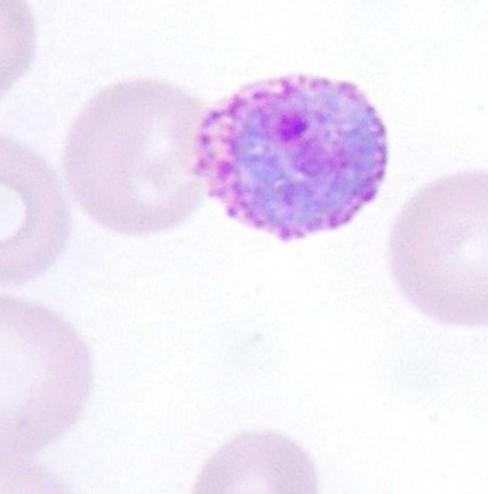Infected: (186, 73, 390, 240)
Uninfected: (62, 78, 201, 229)
